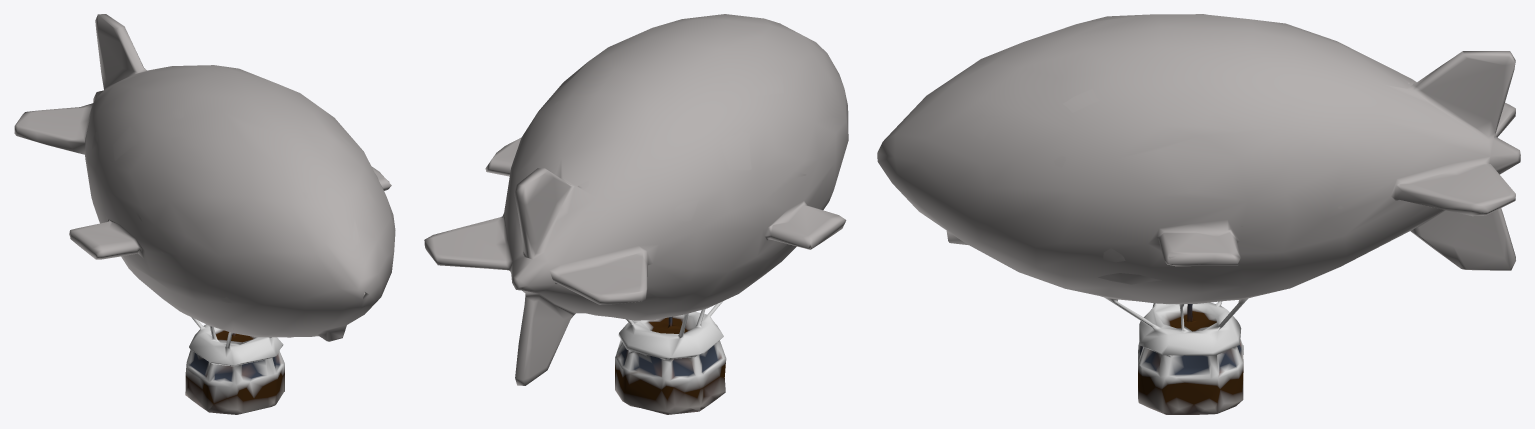
Rendered from gen3d-blimp-lod0.glb.
3 views of the same model, side by side, from view 1: azimuth 30°, elevation 25°; view 2: azimuth 150°, elevation 25°; view 3: azimuth 270°, elevation 25° (orthographic). The views are drawn at different scales.
Visible parts, largest first — view 1: part_0; view 2: part_0; view 3: part_0.
Boxes of the visible parts, box(x1,y1,x2,y2) form: part_0: box(14, 14, 395, 414); part_0: box(424, 14, 848, 414); part_0: box(877, 14, 1520, 414).
Bounding box in the file's own units: 1.01 × 0.9999 × 1.59.
